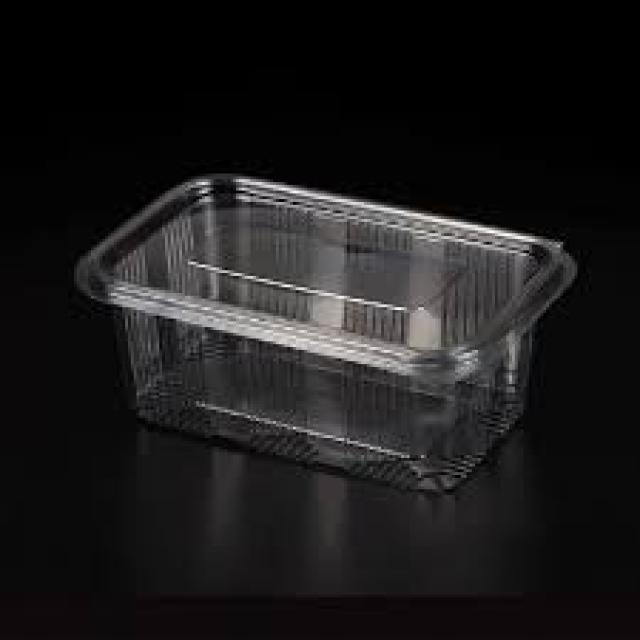disposable: (78, 137, 566, 512)
